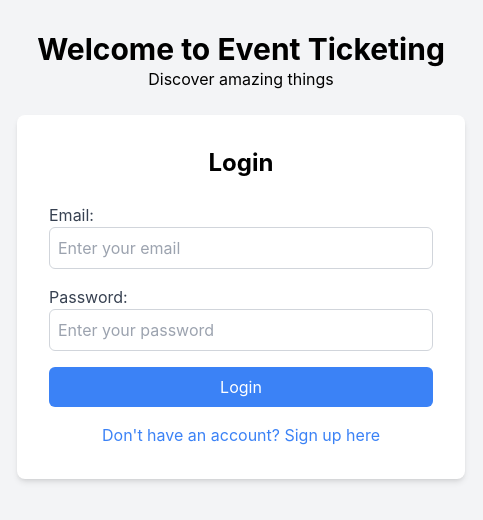
Test: Login Page › should display error message if form submitted with empty fields
Click the submit button: point(241, 387) [49,367,433,407]
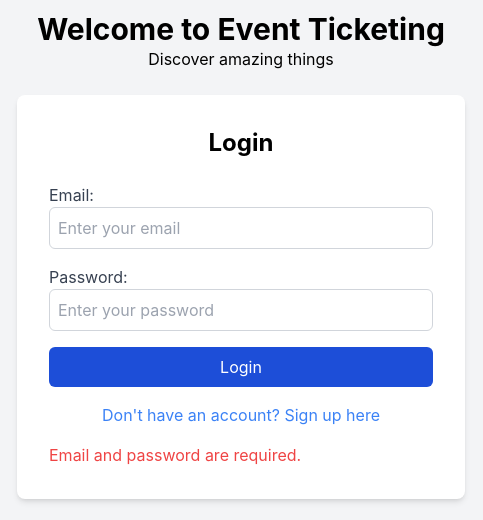
Expected: the text "Email and password are required." is shown, [49,445,301,465]
